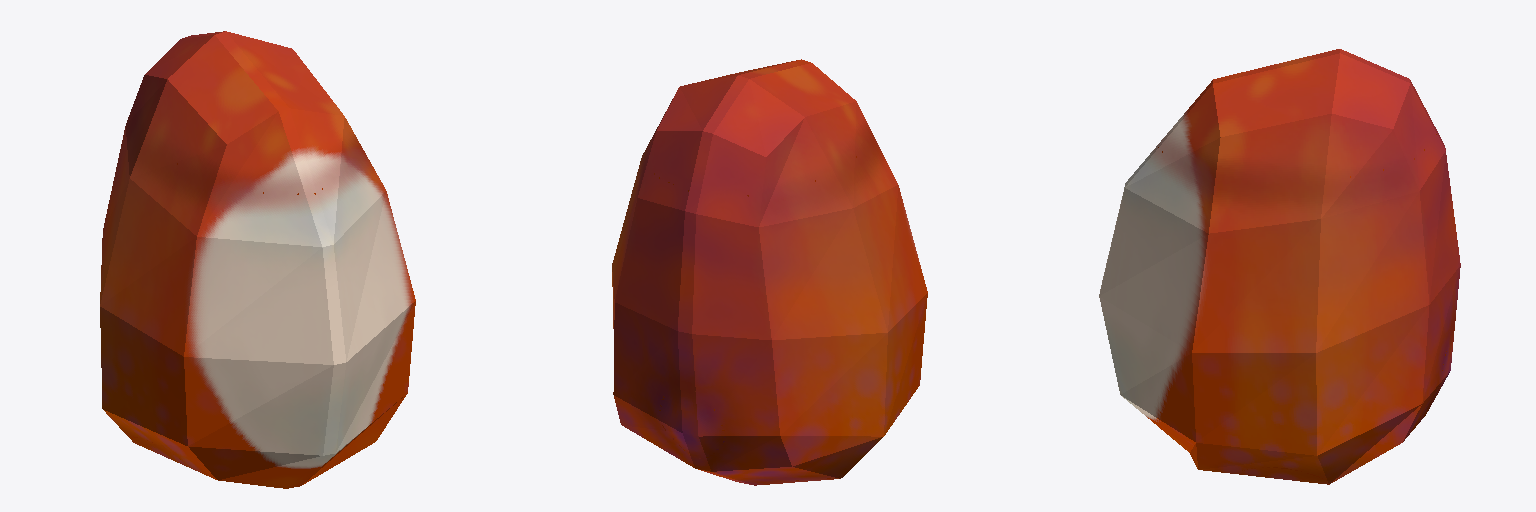
3 renders of one model, left to right at view 1: azimuth 30°, elevation 25°; view 2: azimuth 150°, elevation 25°; view 3: azimuth 270°, elevation 25°, orthographic.
Visible parts, largest first — view 1: RED_BODY; view 2: RED_BODY; view 3: RED_BODY.
Part boxes in pixels (left/top/right/bottom): RED_BODY: left=100, top=31, right=415, bottom=488; RED_BODY: left=612, top=59, right=927, bottom=485; RED_BODY: left=1099, top=49, right=1460, bottom=484.
Size of the model in its own units: 1.18 by 1.65 by 1.34.
1 materials, 1 textured.